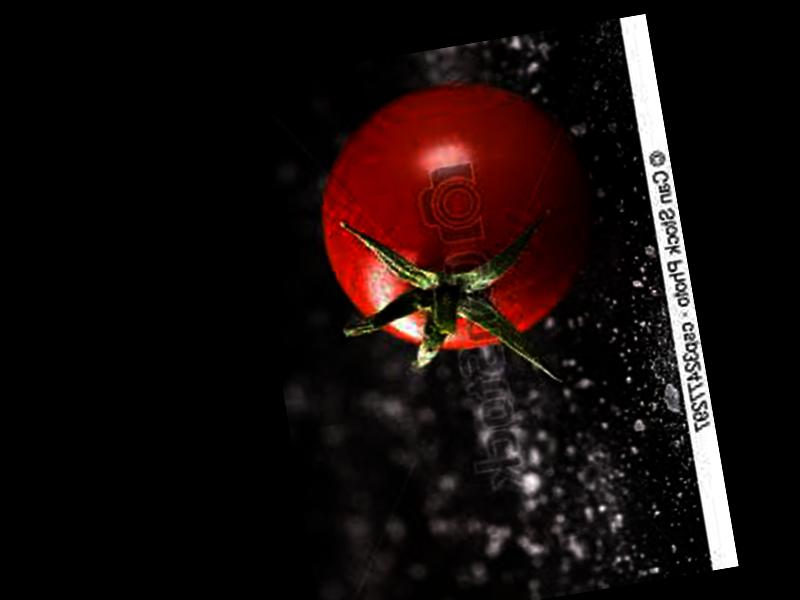Tomato: (301, 63, 610, 370)
